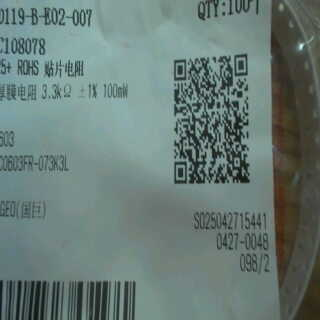3.3kO: (37, 77, 82, 105)
